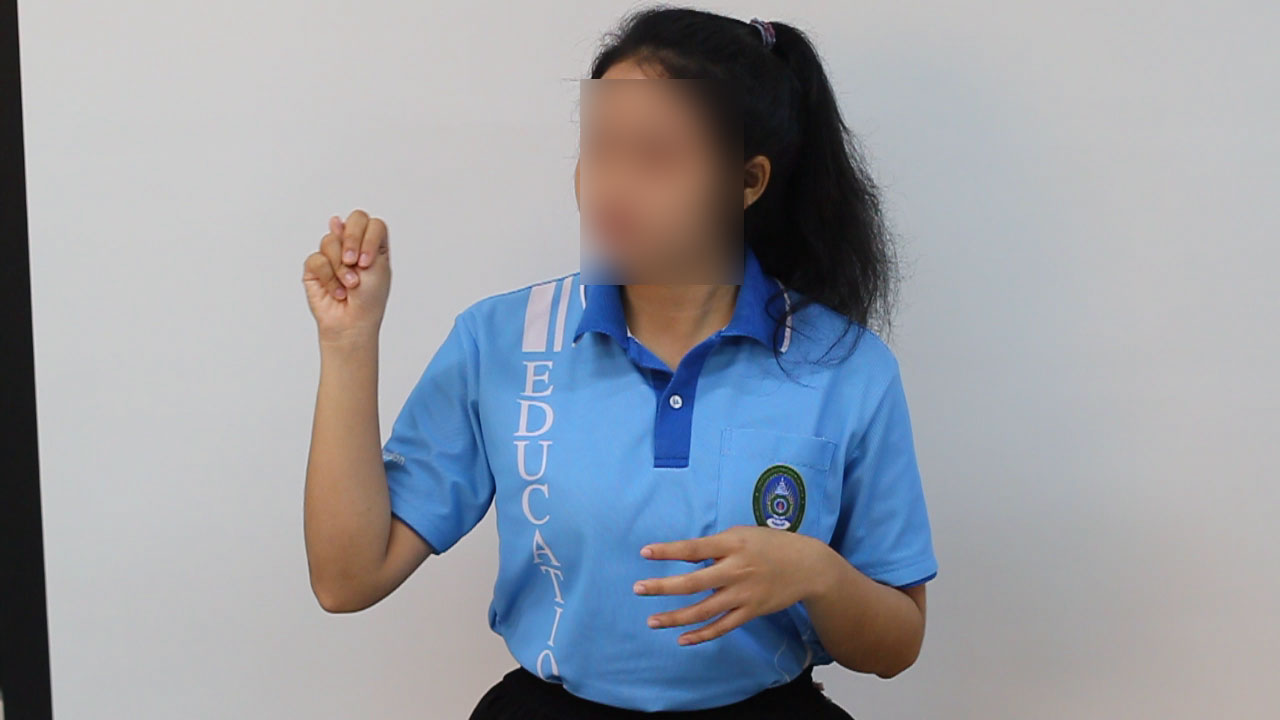nor: (287, 196, 410, 347)
